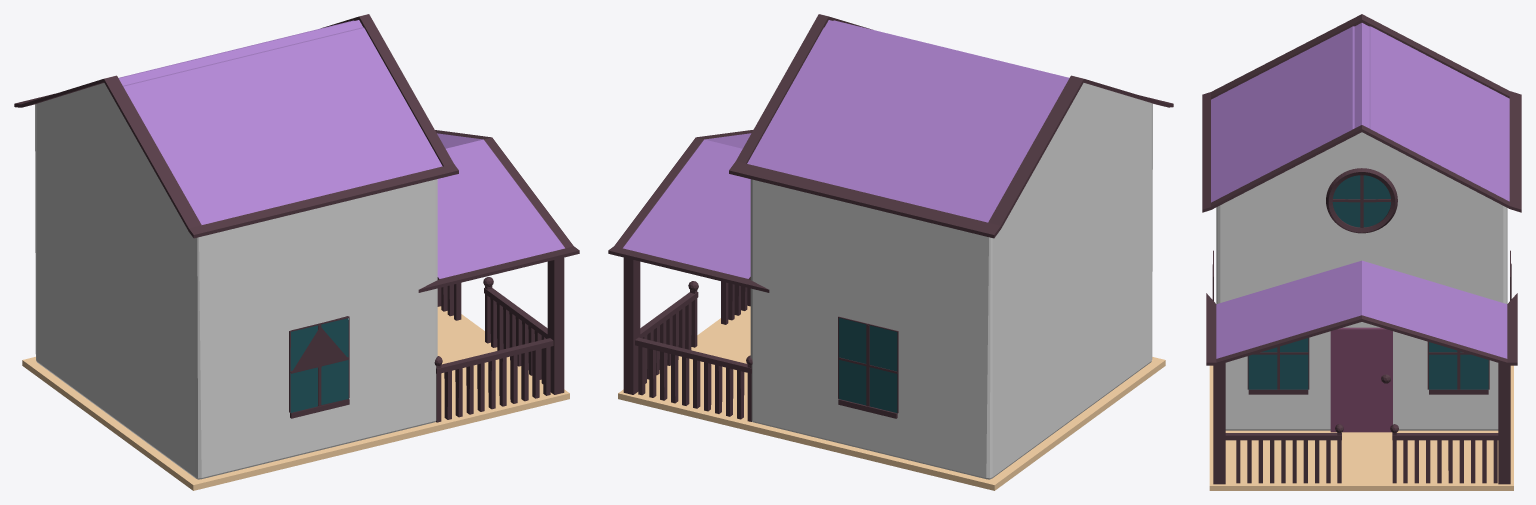
The model's file is Houseblend.fbx.
3 renders of one model, left to right at view 1: azimuth 30°, elevation 25°; view 2: azimuth 150°, elevation 25°; view 3: azimuth 270°, elevation 25°, orthographic. The views are drawn at different scales.
Parts seen in each view (by area): view 1: House, Roof, Roof1, Slab, Rail, Window.003, Pillar; view 2: House, Roof, Roof1, Slab, Rail, Window.002, Pillar; view 3: House, Roof, Roof1, Slab, Door, Rail, RoundWindow, Pillar, Window, Window.001.
Boxes of the visible parts, left/top/right/bottom form: House: left=35, top=83, right=437, bottom=479; Roof: left=14, top=14, right=458, bottom=238; Roof1: left=418, top=130, right=579, bottom=292; Slab: left=22, top=306, right=569, bottom=490; Rail: left=434, top=277, right=553, bottom=422; Window.003: left=289, top=316, right=349, bottom=418; Pillar: left=547, top=257, right=564, bottom=394; House: left=750, top=83, right=1152, bottom=479; Roof: left=729, top=14, right=1173, bottom=238; Roof1: left=608, top=129, right=769, bottom=292; Slab: left=618, top=305, right=1165, bottom=490; Rail: left=635, top=281, right=752, bottom=421; Window.002: left=838, top=316, right=898, bottom=418; Pillar: left=623, top=257, right=640, bottom=394; House: left=1216, top=132, right=1507, bottom=430; Roof: left=1202, top=14, right=1521, bottom=212; Roof1: left=1206, top=260, right=1517, bottom=365; Slab: left=1209, top=365, right=1513, bottom=490; Door: left=1330, top=327, right=1392, bottom=432; Rail: left=1225, top=424, right=1498, bottom=483; RoundWindow: left=1326, top=168, right=1397, bottom=233; Pillar: left=1213, top=363, right=1510, bottom=484; Window: left=1247, top=338, right=1309, bottom=394; Window.001: left=1427, top=342, right=1489, bottom=394.
Size of the model in its own units: 321 by 277 by 257.
